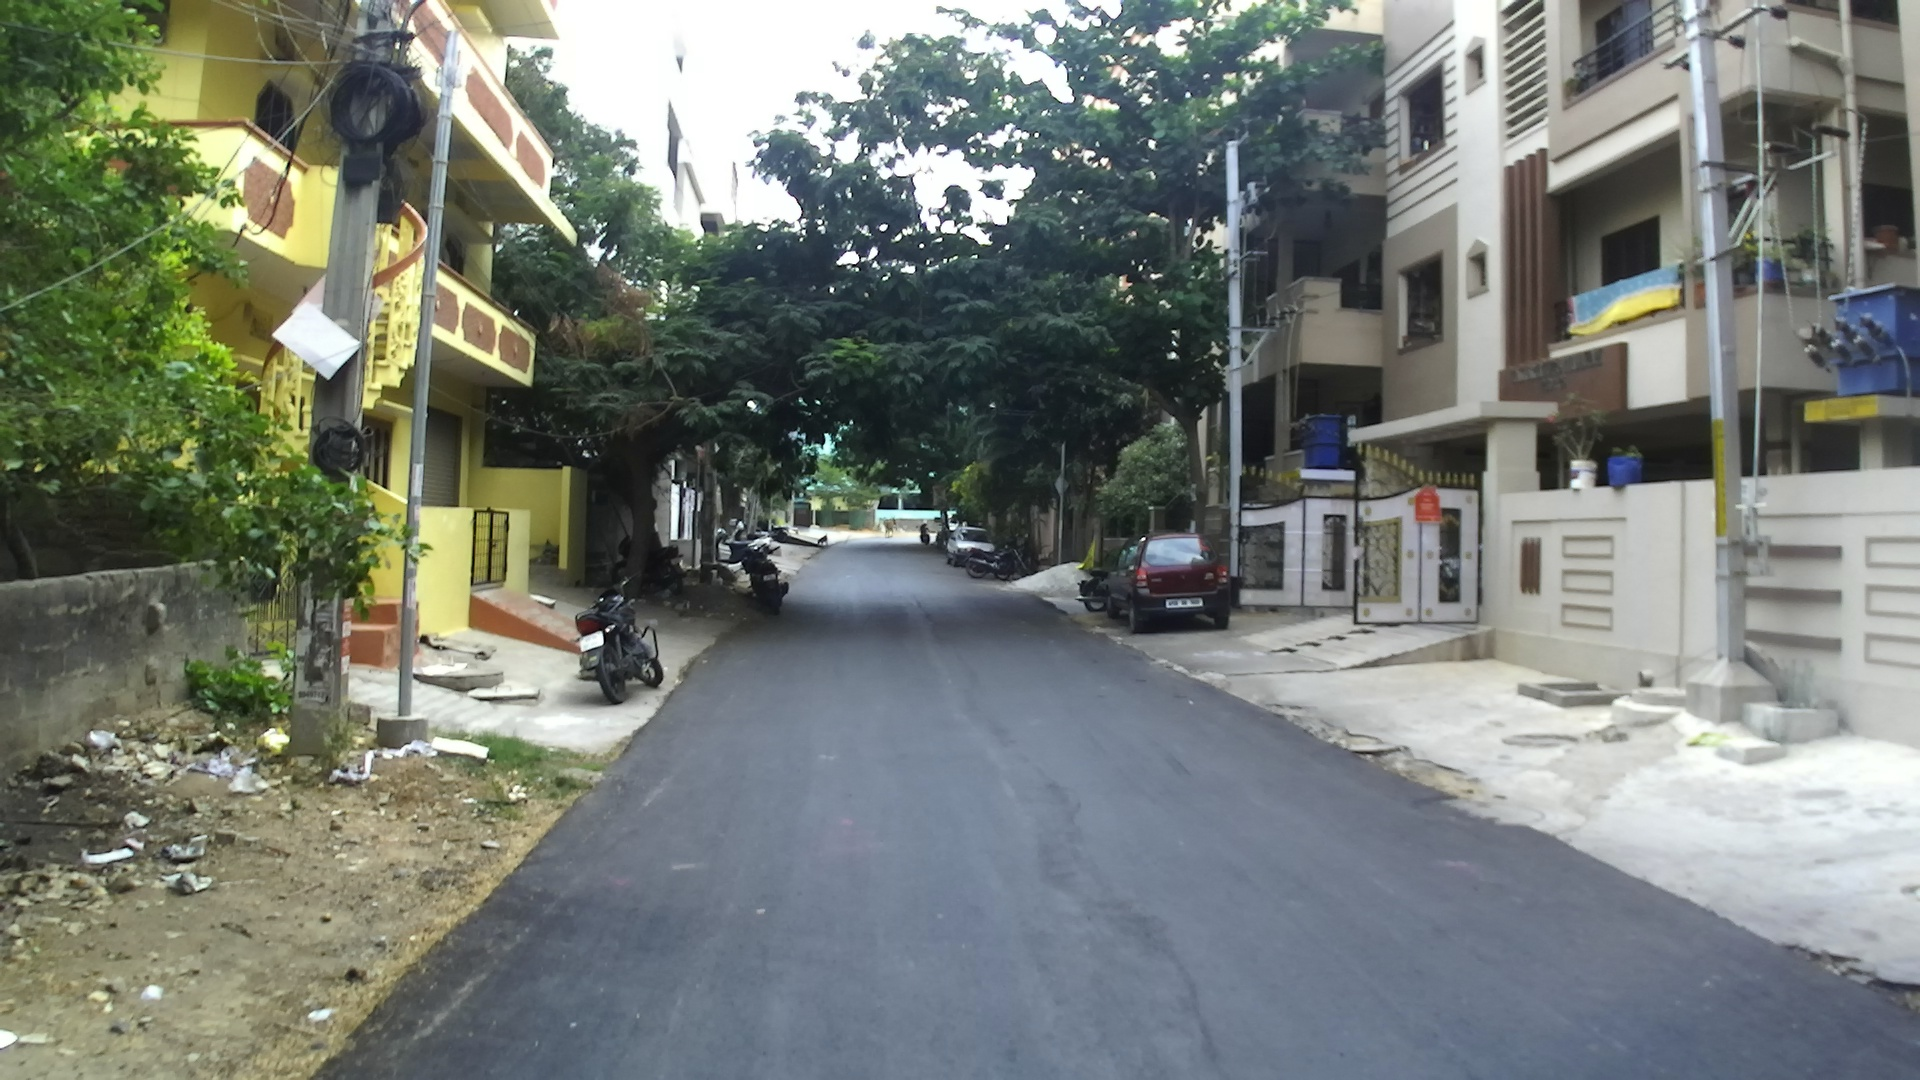vehicle: (1091, 533, 1238, 632), (574, 585, 667, 703), (724, 522, 833, 613), (948, 530, 1001, 574)
